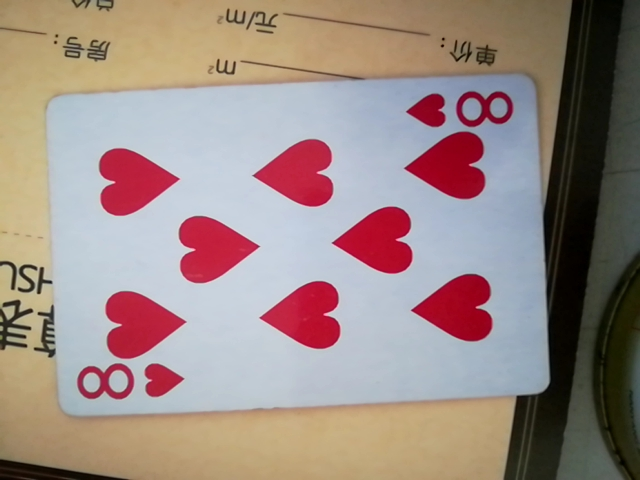hx 8: (44, 78, 547, 424)
